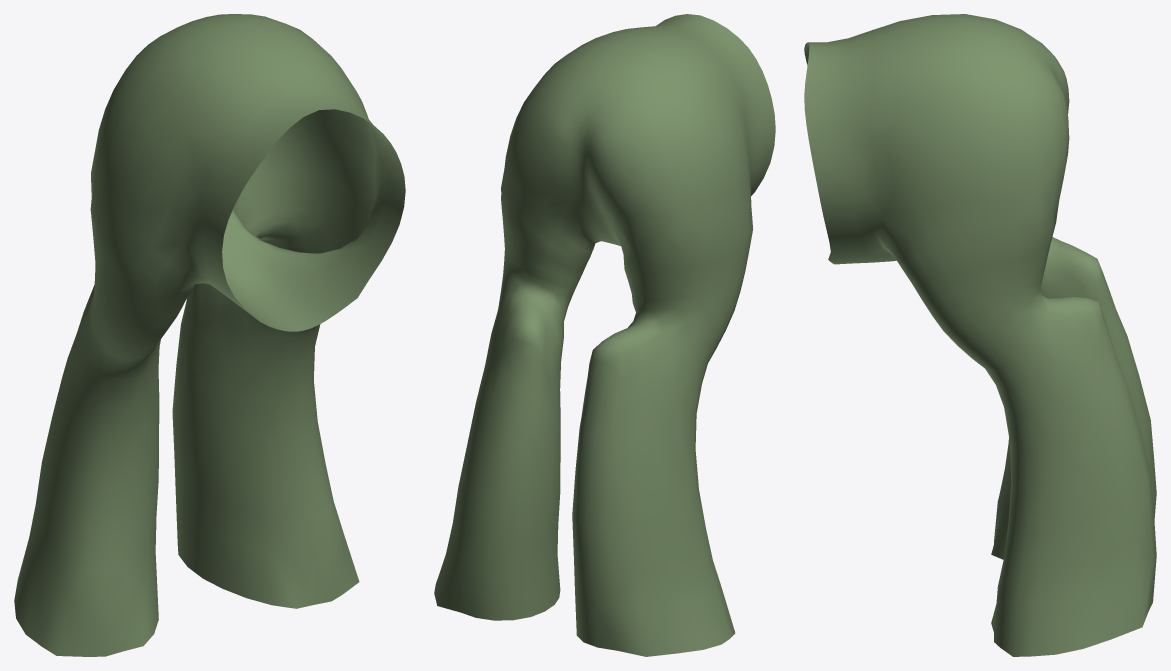
Rendered from leggings.obj.
The picture shows the model from 3 angles, left to right: view 1: azimuth 30°, elevation 25°; view 2: azimuth 150°, elevation 25°; view 3: azimuth 270°, elevation 25°; orthographic projection. The views are drawn at different scales.
Parts seen in each view (by area): view 1: leggin; view 2: leggin; view 3: leggin.
Part boxes in pixels (x1=…): leggin: x1=14, y1=14, x2=405, y2=656; leggin: x1=434, y1=14, x2=775, y2=656; leggin: x1=804, y1=14, x2=1156, y2=656.
Size of the model in its own units: 16.17 by 29.98 by 16.92.
